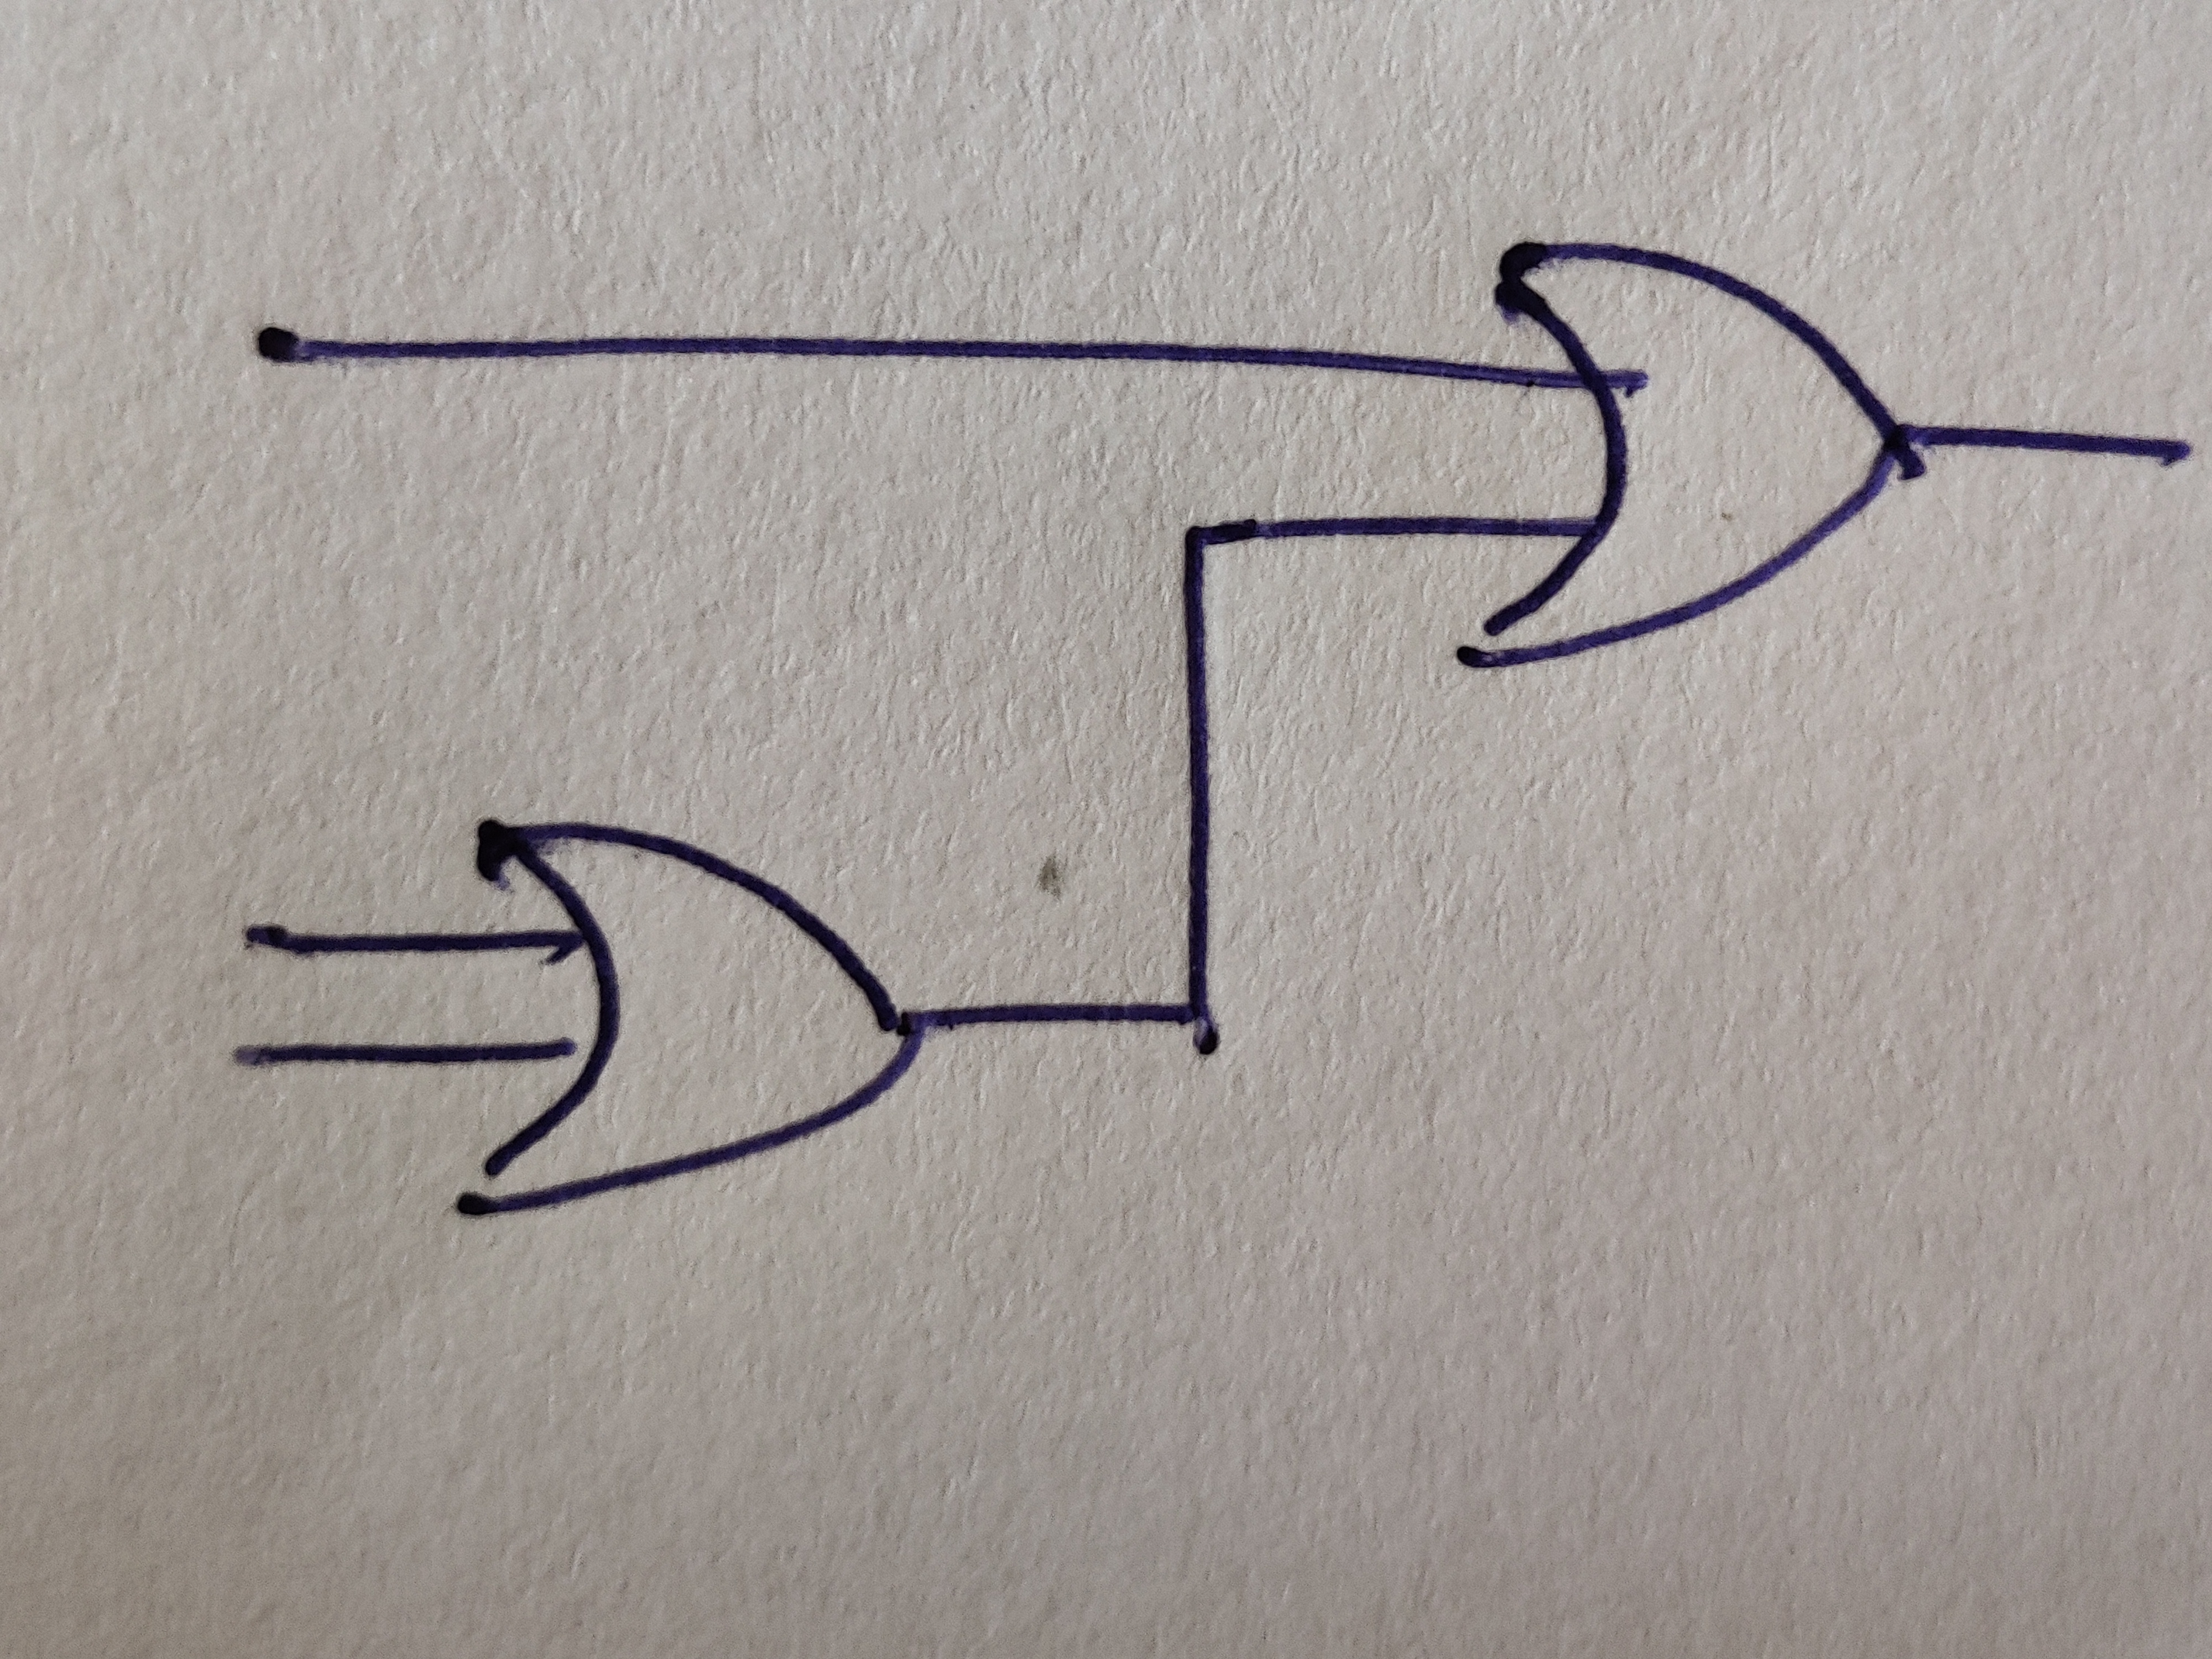or: (1456, 242, 1926, 671), (453, 819, 921, 1215)
